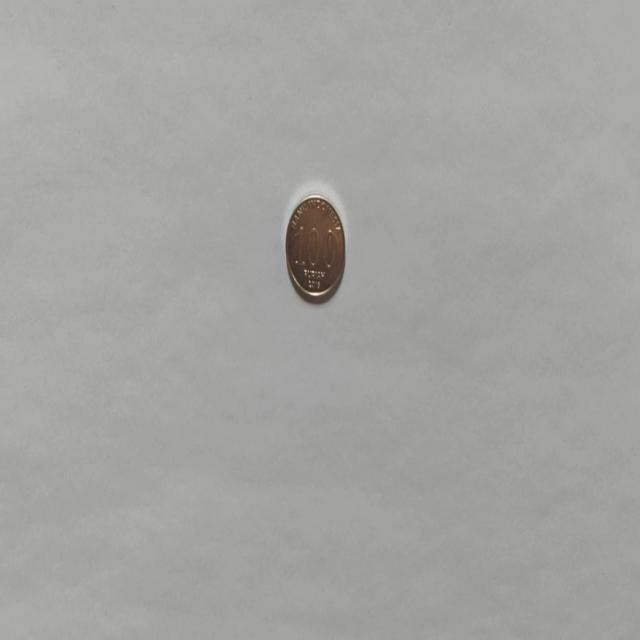seratus rupiah: (284, 191, 346, 304)
